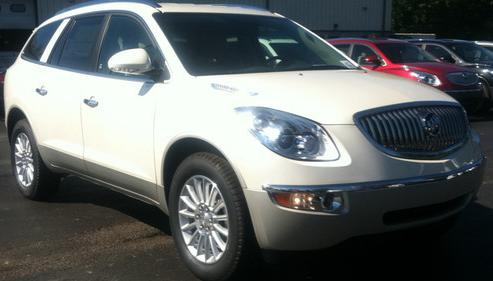front_view: (227, 91, 489, 255)
headlight: (230, 97, 349, 173)
side_glass: (23, 8, 169, 86)
